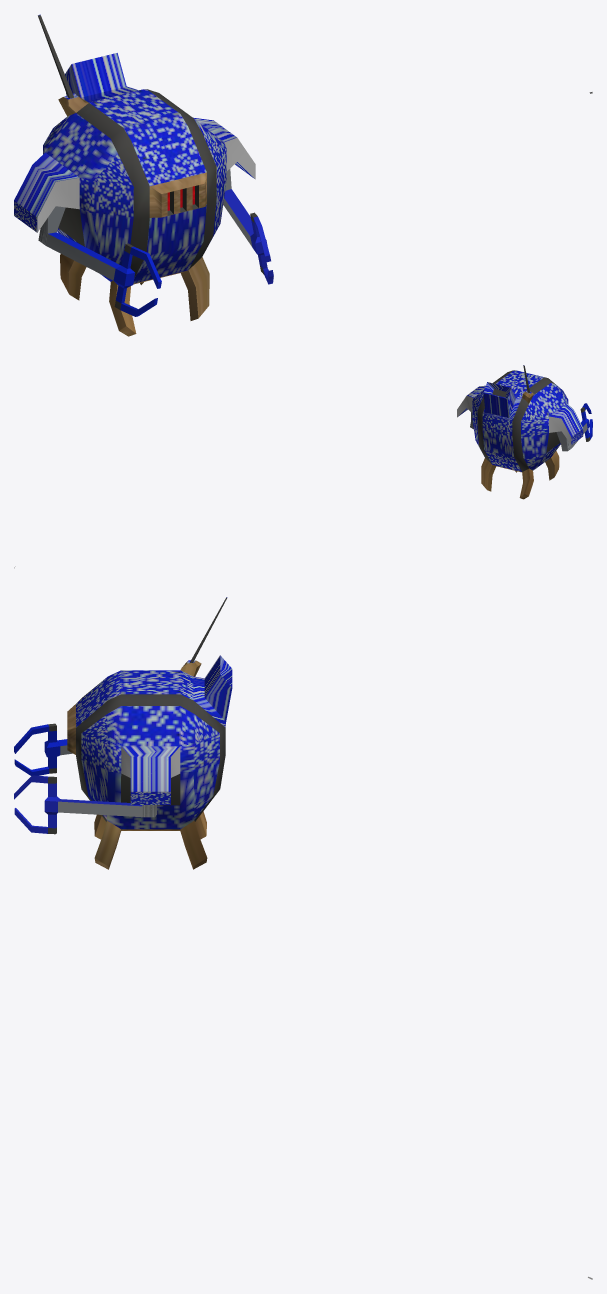
The model's file is guideBlue.fbx.
3 views of the same model, one above another, from view 1: azimuth 30°, elevation 25°; view 2: azimuth 150°, elevation 25°; view 3: azimuth 270°, elevation 25° (orthographic). The views are drawn at different scales.
Parts seen in each view (by area): view 1: pCube1; view 2: pCube1; view 3: pCube1.
Part boxes in pixels (box(x1,y1,x2,y2)): pCube1: box(14, 14, 273, 336); pCube1: box(457, 365, 592, 499); pCube1: box(14, 597, 232, 869).
Bounding box in the file's own units: 2.98 × 1.46 × 2.12.
